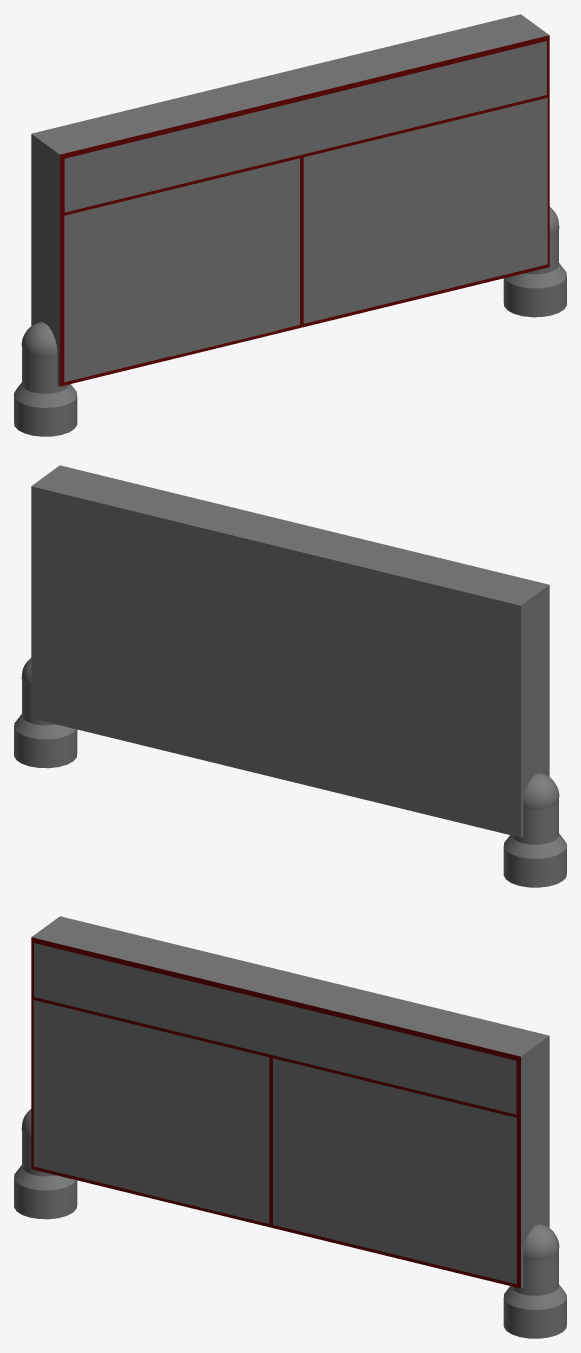
Rendered from Scoreboard_Export.fbx.
The picture shows the model from 3 angles, top to bottom: view 1: azimuth 30°, elevation 25°; view 2: azimuth 150°, elevation 25°; view 3: azimuth 330°, elevation 25°; orthographic projection.
Visible parts, largest first — view 1: pasted__pasted__pPlane1 (×3), pasted__pasted__pasted__pPlane1, pCube1, pasted__pPlane1 (×3), pPipe1, pasted__pPipe1, pCylinder1, pSphere1; view 2: pCube1, pPipe1, pasted__pPipe1, pCylinder1, pSphere1; view 3: pasted__pasted__pPlane1 (×3), pasted__pasted__pasted__pPlane1, pasted__pPlane1 (×3), pCube1, pasted__pPipe1, pPipe1, pasted__pCylinder1, pasted__pSphere1.
Part boxes in pixels (x1,y1,x2,y2): pasted__pasted__pPlane1 (×3): (64, 158, 299, 382); pasted__pasted__pasted__pPlane1: (303, 98, 547, 323); pCube1: (31, 14, 549, 386); pasted__pPlane1 (×3): (64, 41, 546, 212); pPipe1: (14, 382, 77, 436); pasted__pPipe1: (503, 263, 566, 317); pCylinder1: (22, 349, 69, 393); pSphere1: (21, 322, 57, 358); pCube1: (31, 465, 549, 837); pPipe1: (503, 833, 566, 887); pasted__pPipe1: (14, 714, 77, 768); pCylinder1: (512, 800, 558, 844); pSphere1: (523, 773, 559, 809); pasted__pasted__pPlane1 (×3): (33, 1000, 269, 1223); pasted__pasted__pasted__pPlane1: (273, 1058, 516, 1284); pasted__pPlane1 (×3): (34, 943, 516, 1114); pCube1: (31, 916, 549, 1288); pasted__pPipe1: (503, 1284, 566, 1338); pPipe1: (14, 1165, 77, 1219); pasted__pCylinder1: (511, 1251, 558, 1295); pasted__pSphere1: (523, 1224, 559, 1260).
Size of the model in its own units: 21.14 by 10.49 by 2.14.
